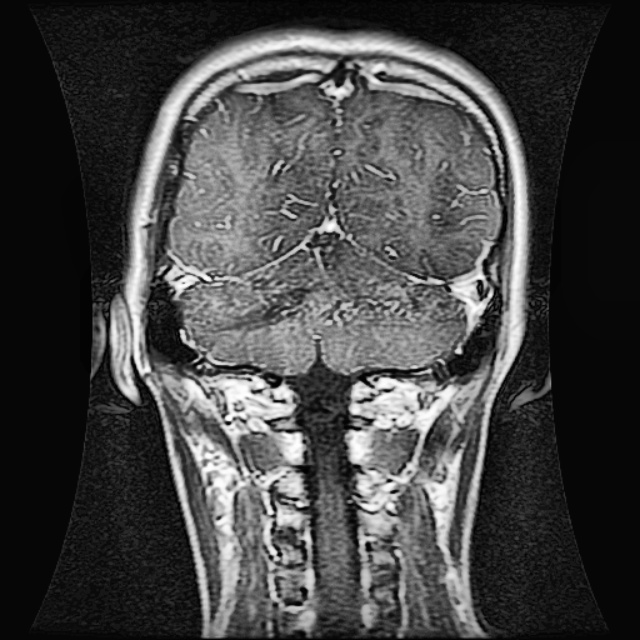Meningioma: (215, 285, 307, 332)
